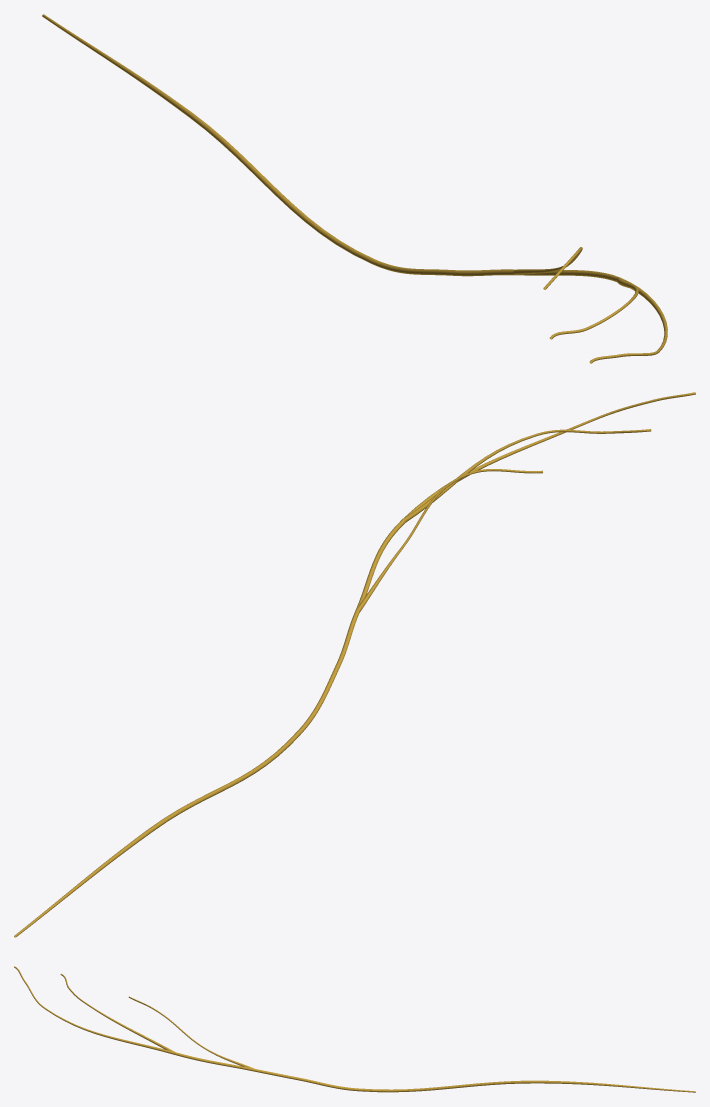
The picture shows the model from 3 angles, top to bottom: view 1: azimuth 30°, elevation 25°; view 2: azimuth 150°, elevation 25°; view 3: azimuth 270°, elevation 25°; orthographic projection. The views are drawn at different scales.
Visible parts, largest first — view 1: 左侧股神经; view 2: 左侧股神经; view 3: 左侧股神经.
Part boxes in pixels (x1,y1,x2,y2): 左侧股神经: (42,14,667,363); 左侧股神经: (14,392,695,937); 左侧股神经: (14,966,695,1092).
Size of the model in its own units: 0.1138 by 0.1076 by 0.6961.
